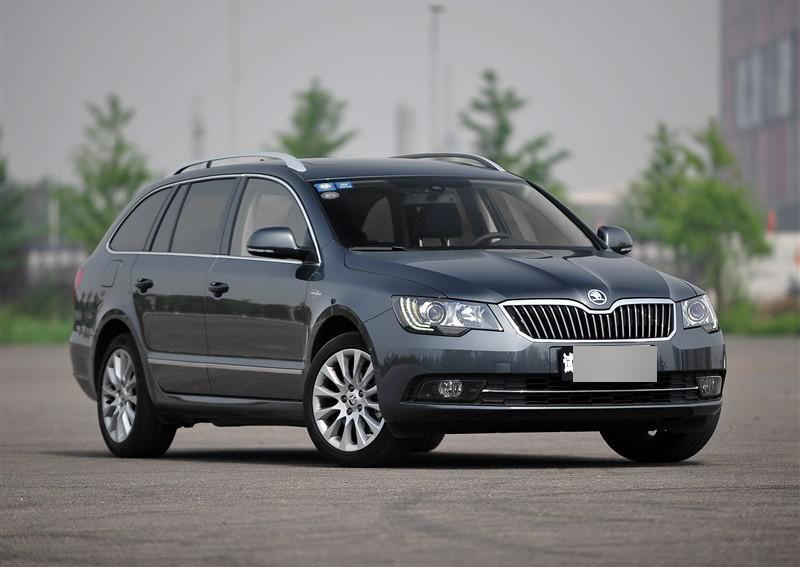Wagon: (67, 151, 727, 468)
